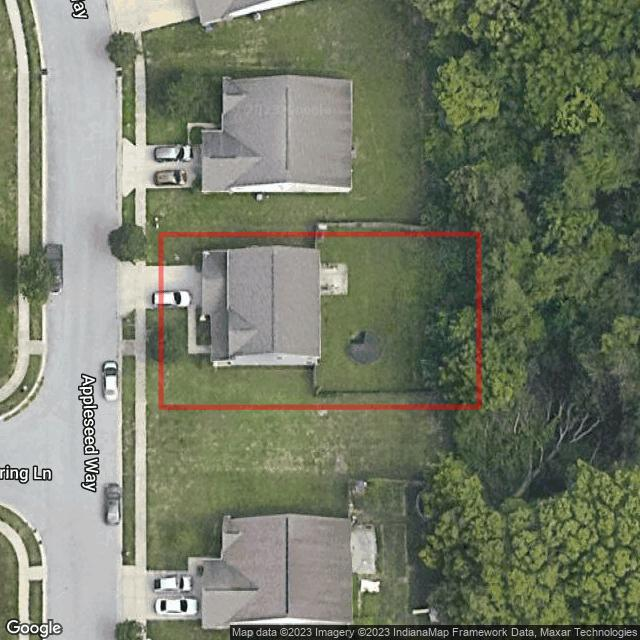Driveway: (164, 266, 202, 307)
Extra Driveway: (118, 260, 159, 321)
Extra Lawn: (146, 308, 158, 407), (122, 356, 135, 407), (122, 233, 137, 264), (146, 233, 159, 265), (122, 309, 135, 341)
Extra Sidewalk: (135, 308, 147, 406), (137, 234, 146, 266), (120, 341, 135, 357)
House: (202, 248, 321, 363)
Other: (348, 331, 381, 364), (320, 262, 348, 294)
Sidewalk: (187, 308, 210, 355)
